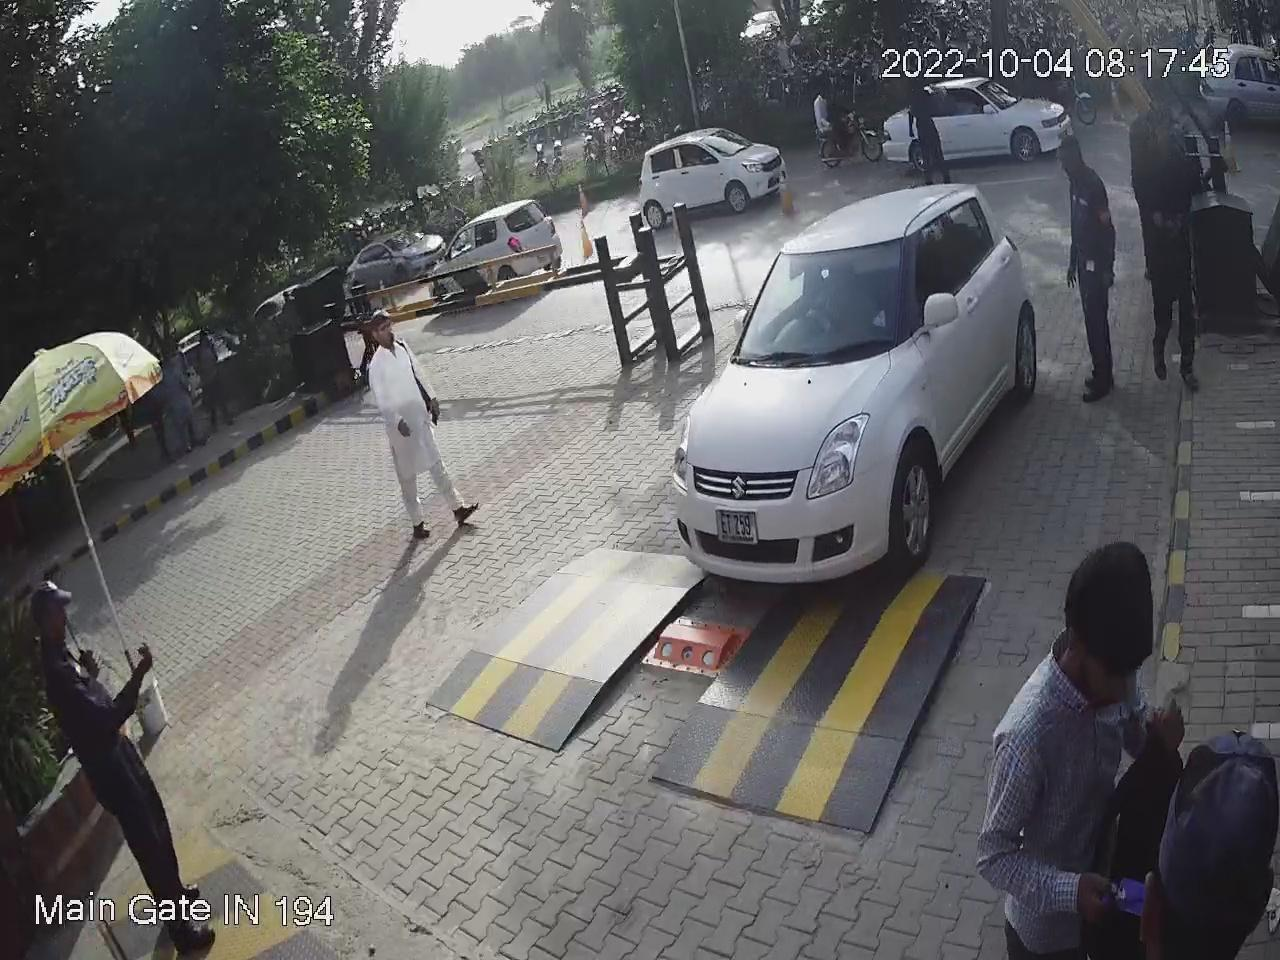windshield: (726, 233, 911, 362)
